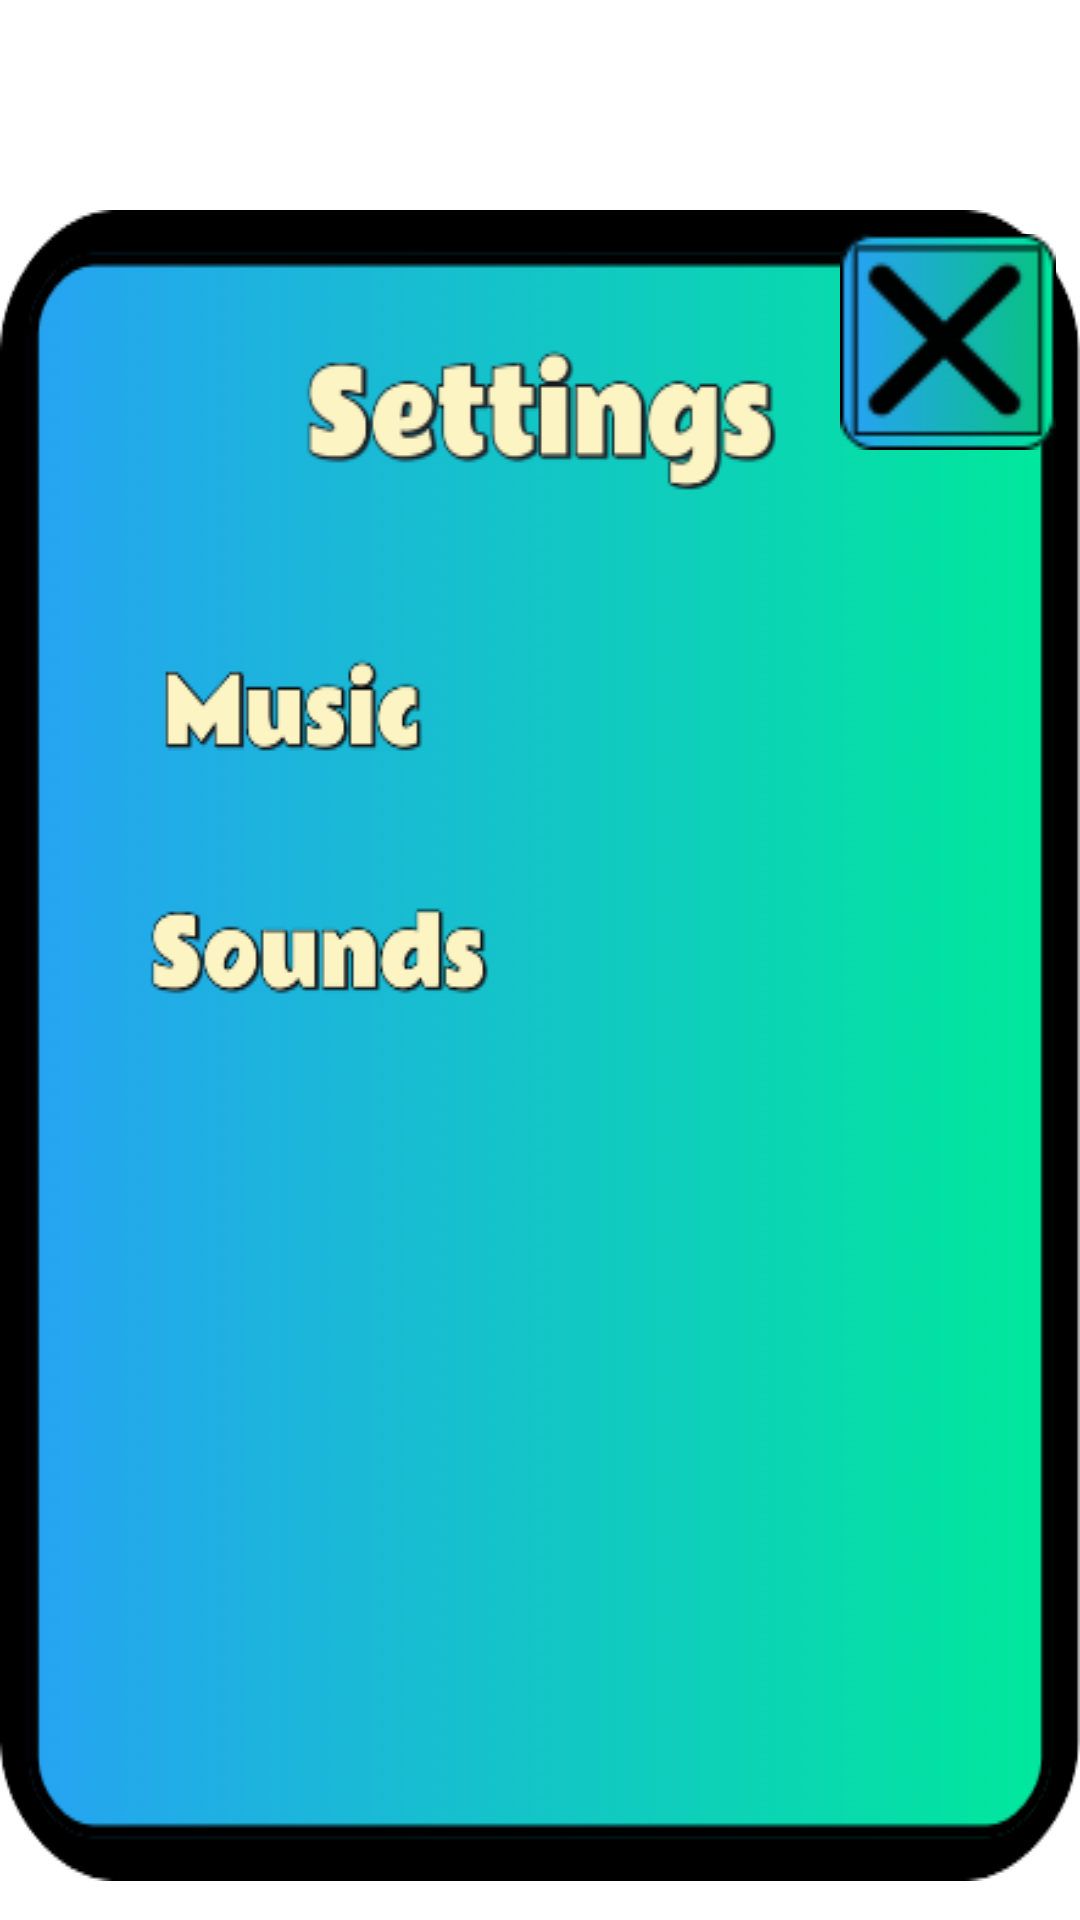

Point at icon controls on the screen. Image size 1080w x 1920h, points as (x=x, y=y).
close: (x=948, y=342)
